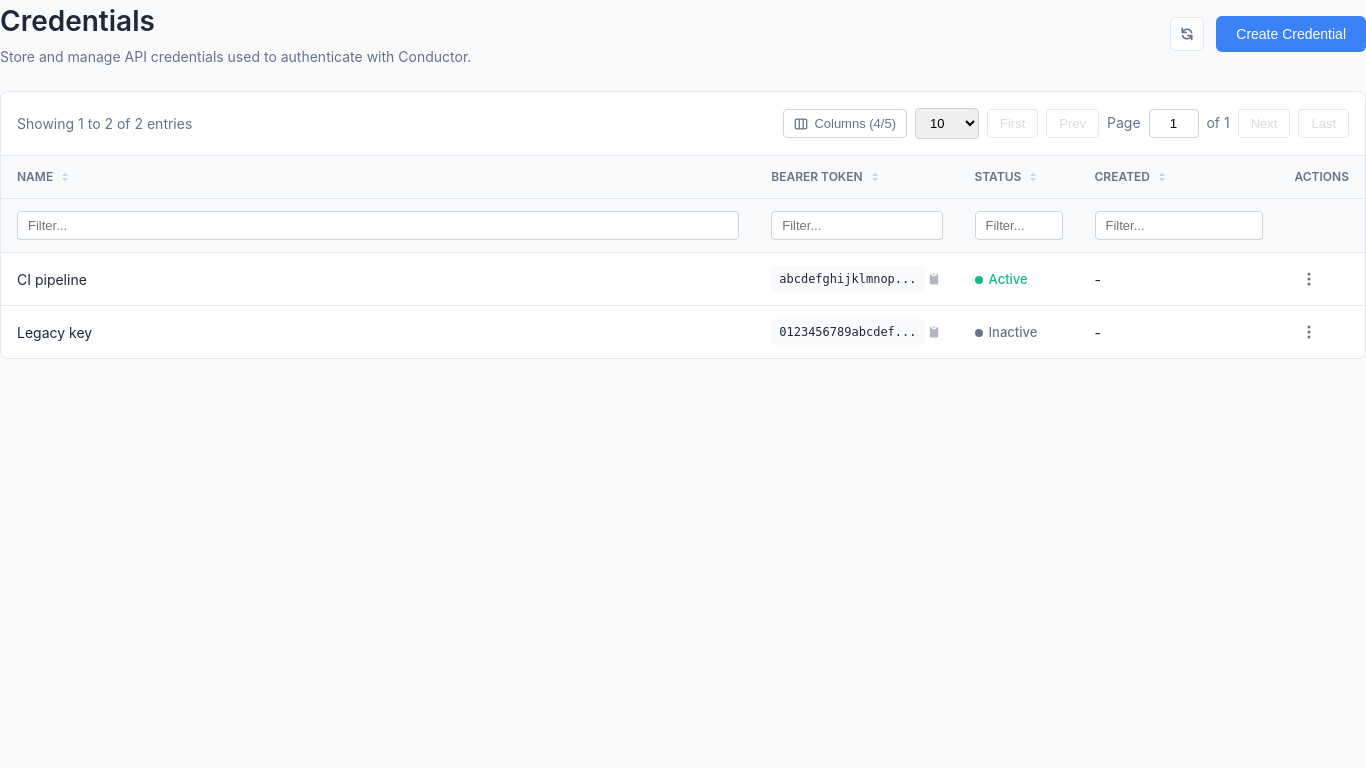
Credentials view › creates a credential with the entered values
Check: the text "CI pipeline" is shown, box [1,252,755,306]
Click the button "Create Credential": point(1291, 34) [1216,16,1365,52]
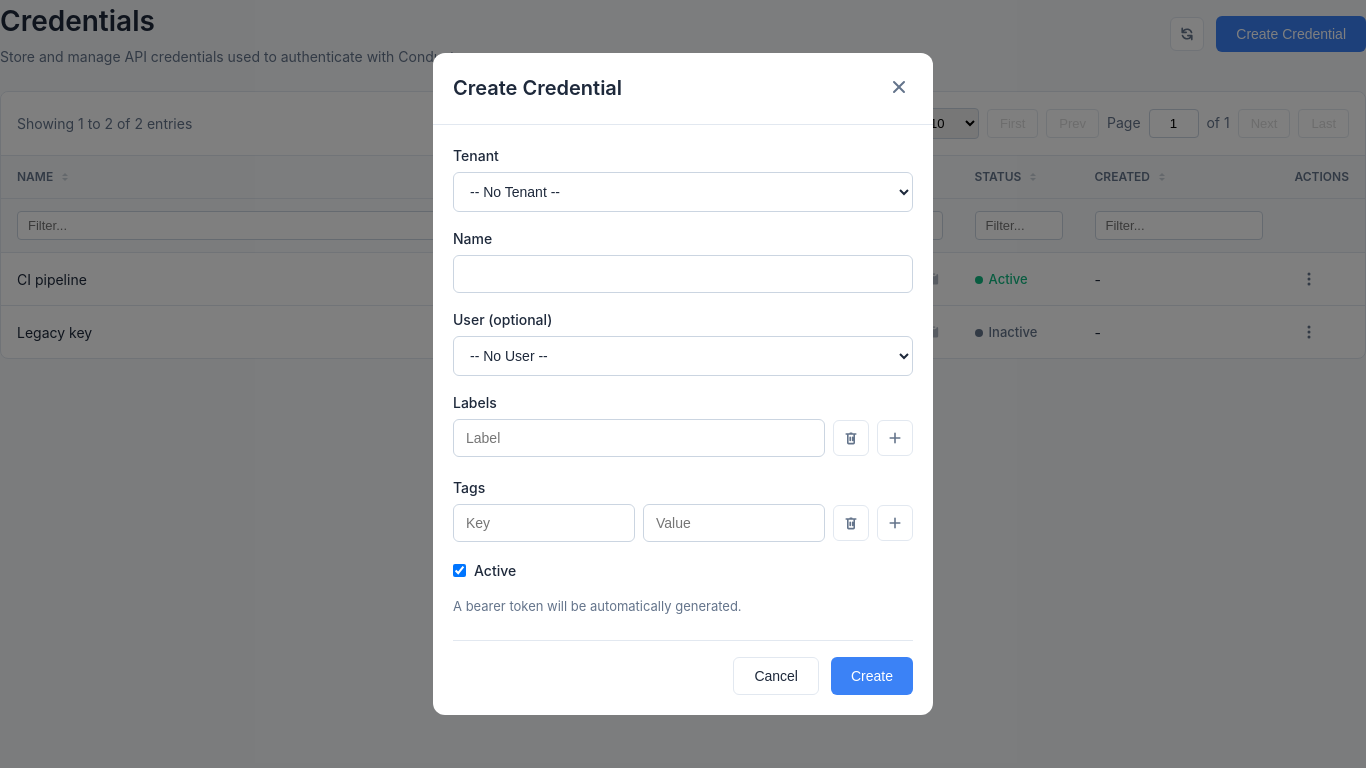
Check: the form is shown, box [453,145,913,695]
Select "Alpha Corp (ten_alpha)" in the dropdown labelled "Tenant": point(683, 192) [453,172,913,212]
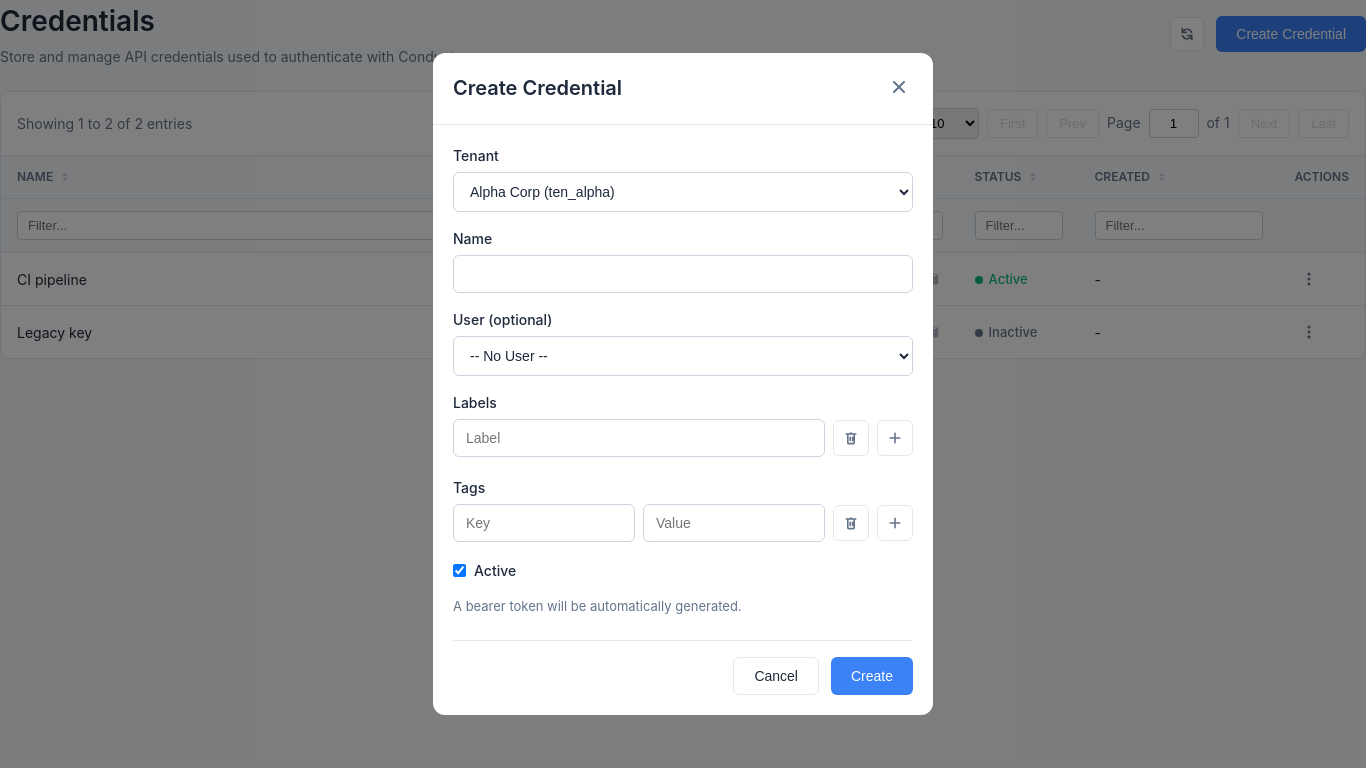
In the field labelled "Name": point(683, 274) [453,255,913,293], type "Deploy bot"
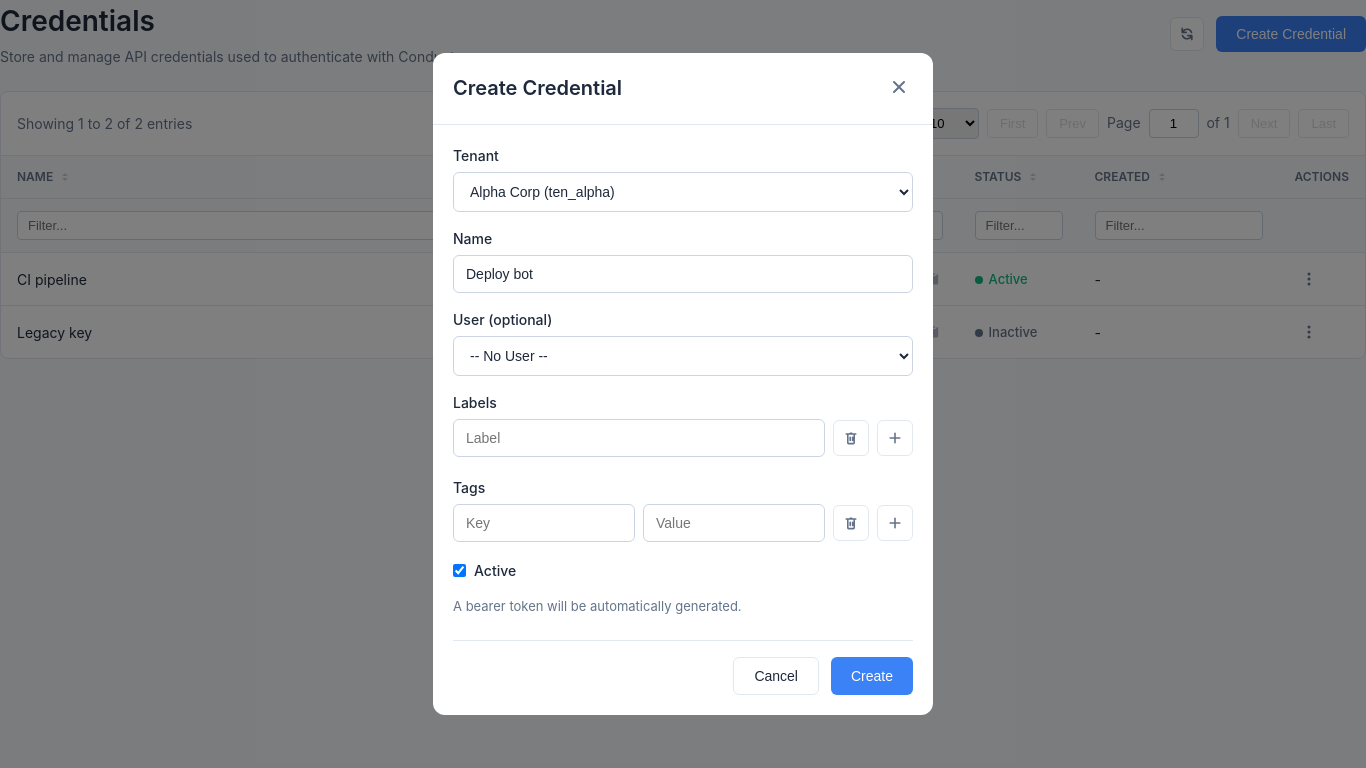
Select "ada@example.com (usr_ada)" in the dropdown labelled "User (optional)": point(683, 356) [453,336,913,376]
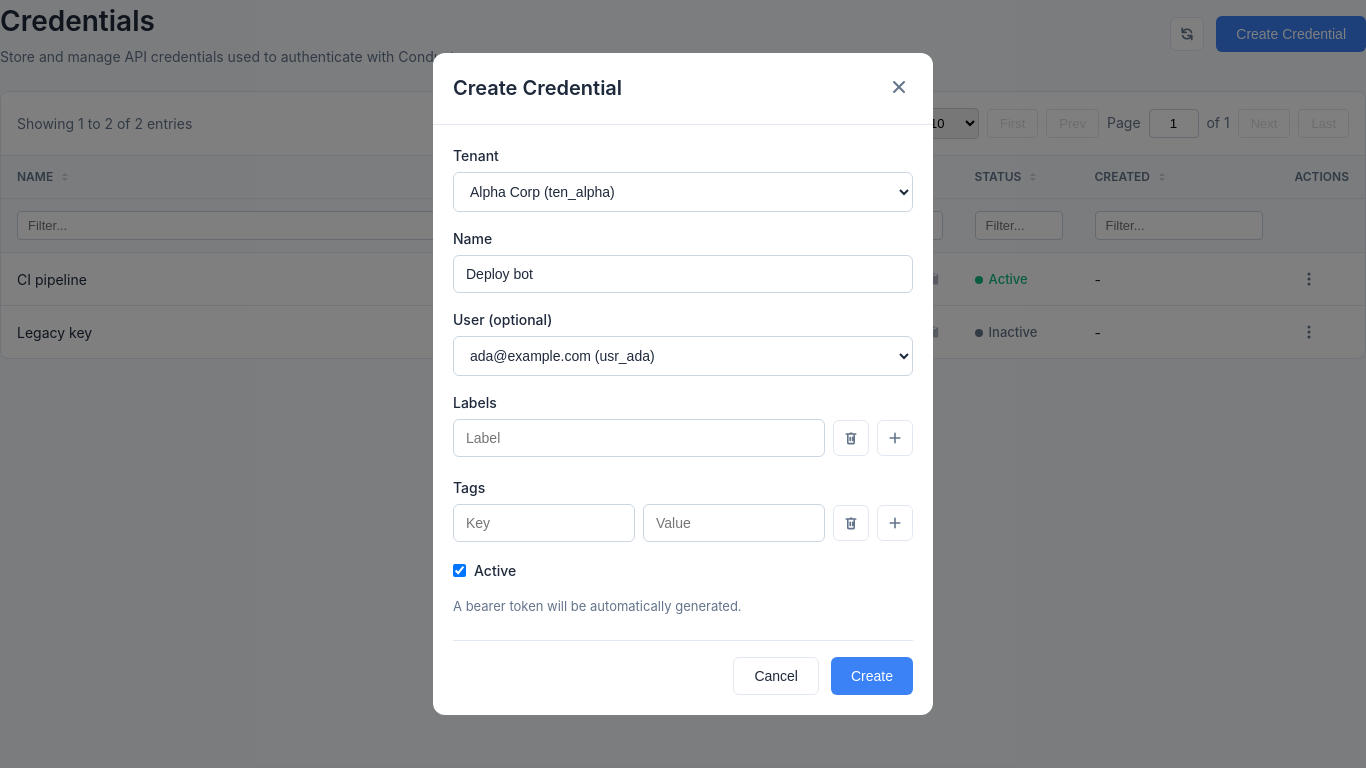
Click the button "Create": point(872, 676) [831,657,913,695]
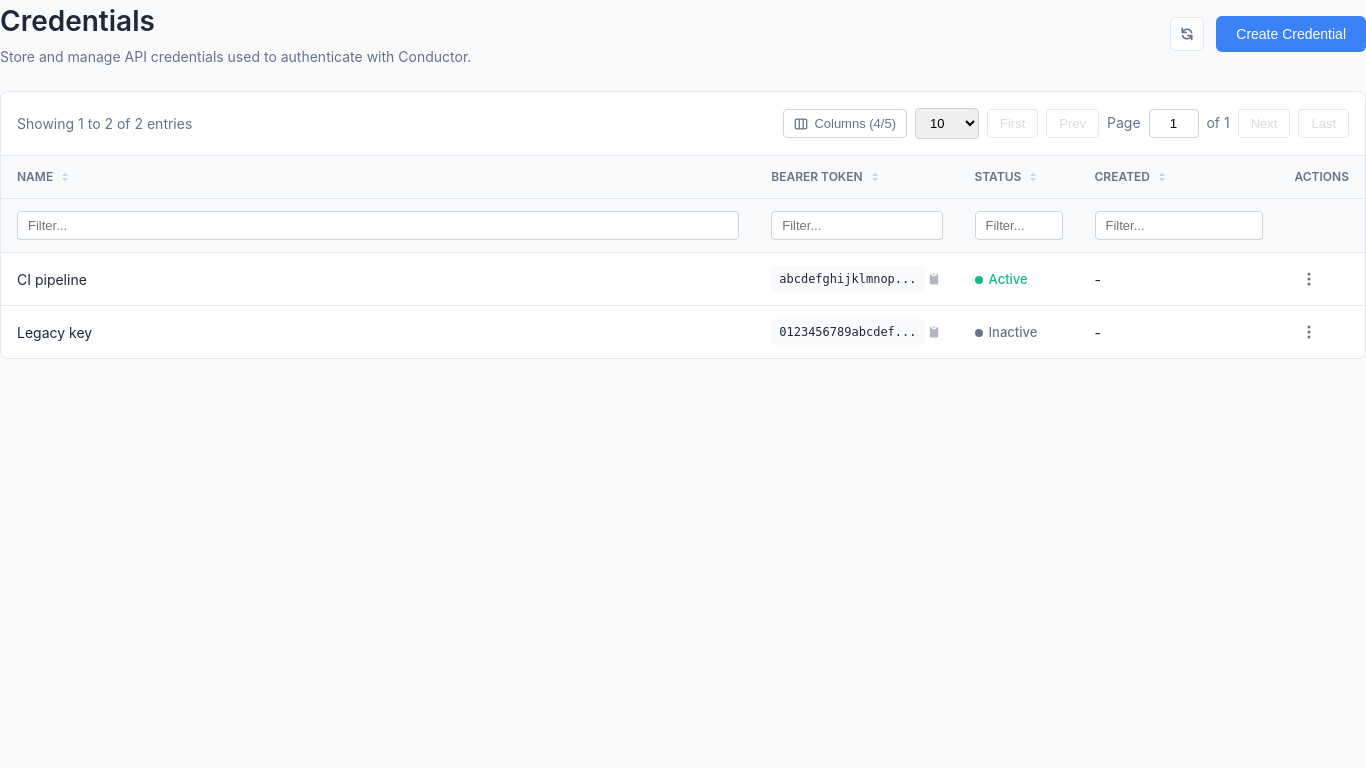
Check: the form is gone
